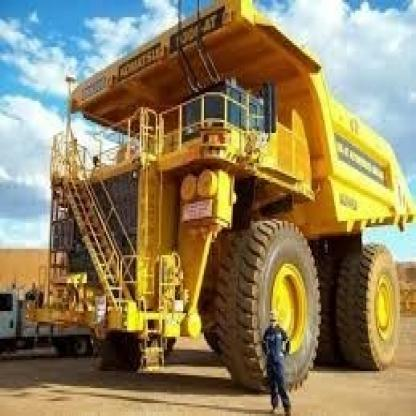dump_truck: (26, 2, 414, 403)
